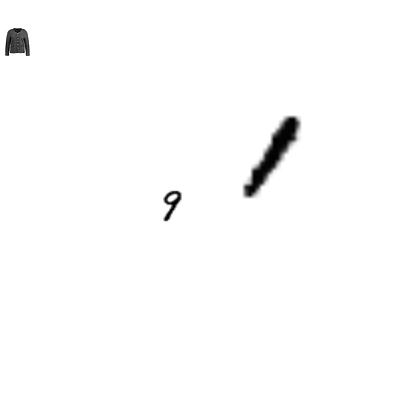1: (216, 97, 328, 209)
9: (150, 182, 192, 224)
Coat: (3, 28, 31, 56)
